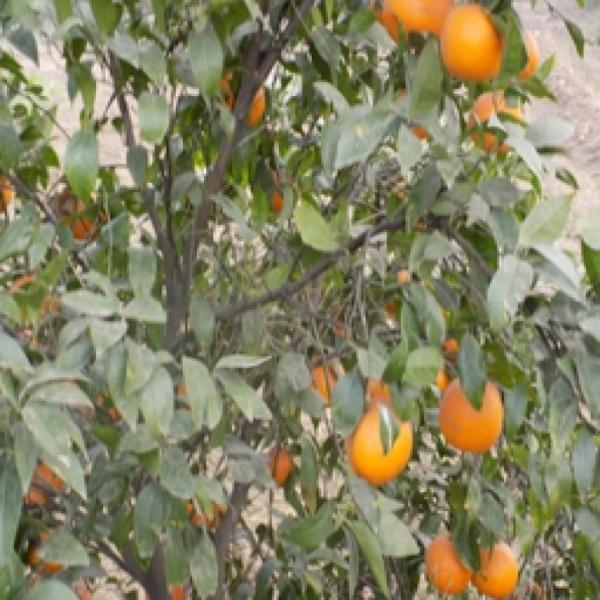Sana: (343, 399, 424, 487), (438, 375, 508, 457), (441, 2, 505, 85), (208, 67, 277, 135), (467, 87, 529, 159), (421, 531, 476, 594), (381, 0, 460, 37), (502, 12, 544, 80), (472, 539, 522, 594), (58, 183, 102, 244), (305, 360, 345, 412), (363, 366, 406, 406), (260, 178, 291, 222), (421, 362, 454, 395)
